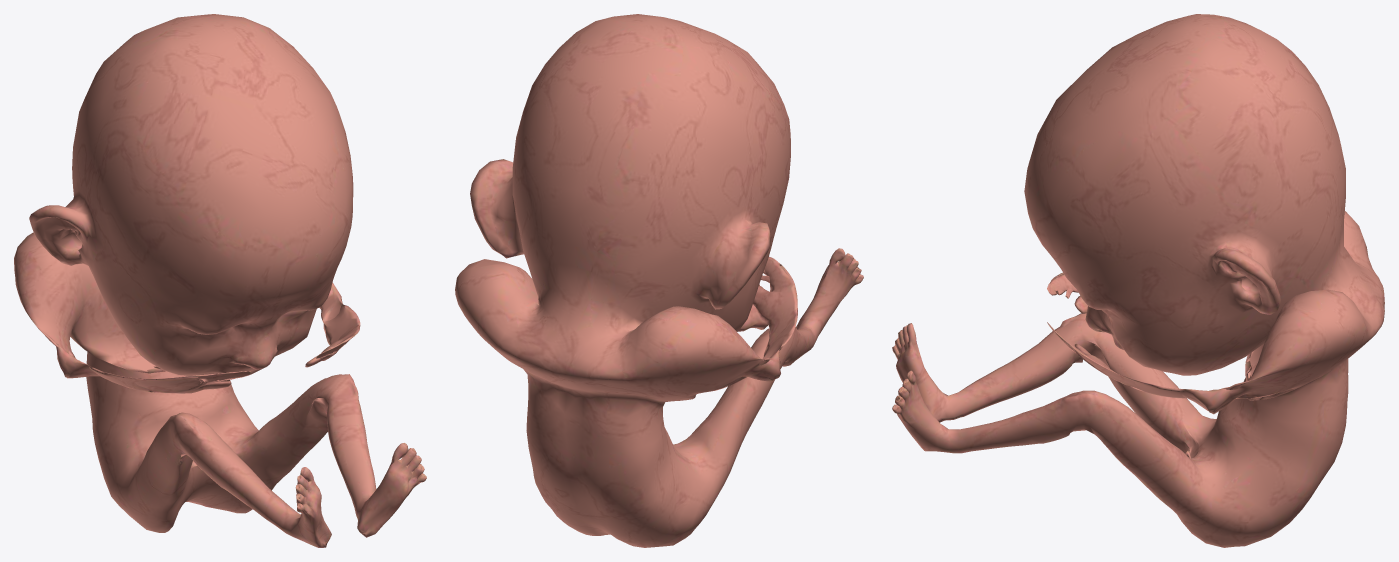
Rendered from pb-w10.1a5fdb41.glb.
3 renders of one model, left to right at view 1: azimuth 30°, elevation 25°; view 2: azimuth 150°, elevation 25°; view 3: azimuth 270°, elevation 25°, orthographic.
Parts seen in each view (by area): view 1: Baby; view 2: Baby; view 3: Baby.
Part boxes in pixels (box(x1,y1,x2,y2)): Baby: box(14, 14, 426, 547); Baby: box(455, 14, 863, 547); Baby: box(892, 14, 1384, 547).
Size of the model in its own units: 0.0206 by 0.0337 by 0.0301.
1 material, 1 textured.
